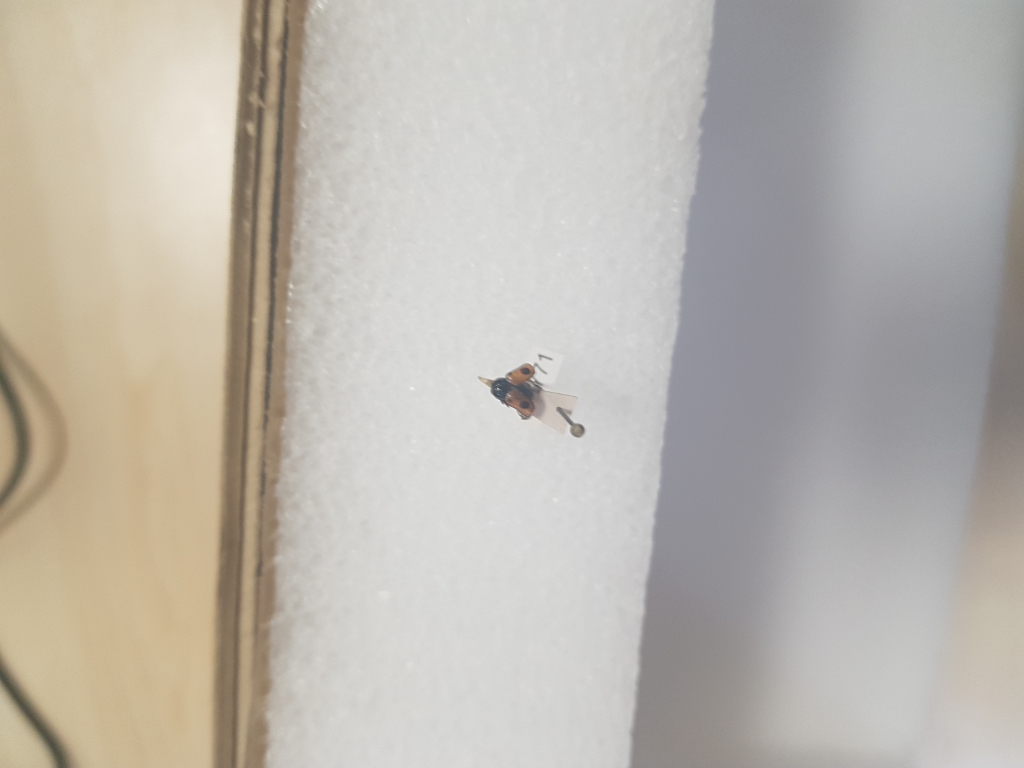Cryptocephalus_bipunctatus: (477, 363, 547, 422)
